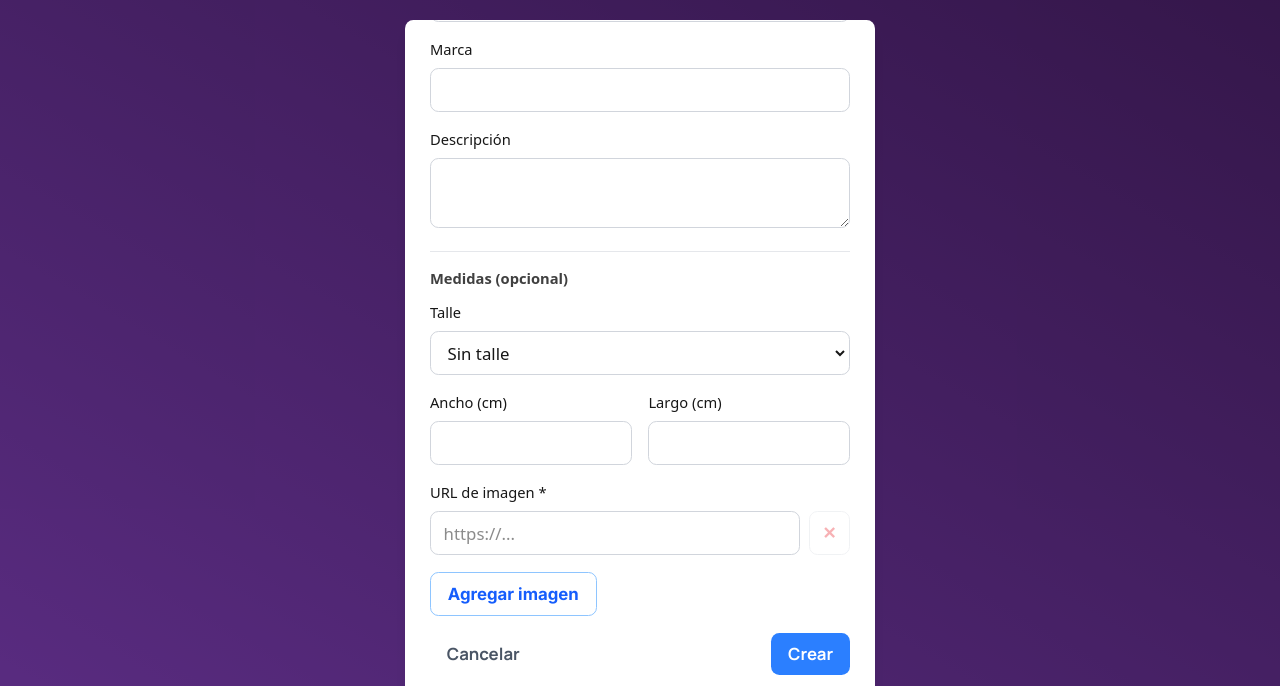
it: ProductModal › adds an image input when clicking the add button
(page scrolled)
What coordinates should you click on to do the following:
click the button "Agregar imagen"
I would click on:
 (513, 594)
Its box is x1=430 y1=572 x2=597 y2=616.
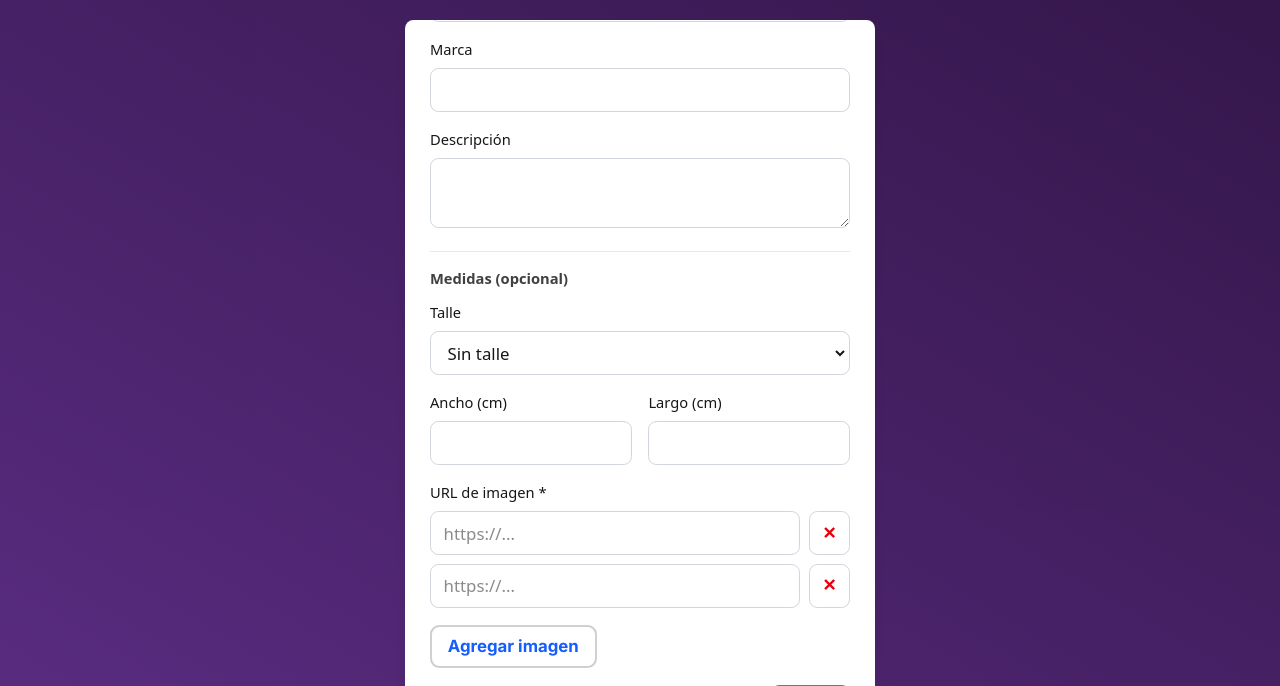
Check: the number of fields named "URL de imagen" is 2, box x1=430 y1=511 x2=800 y2=555; x1=430 y1=564 x2=800 y2=608
